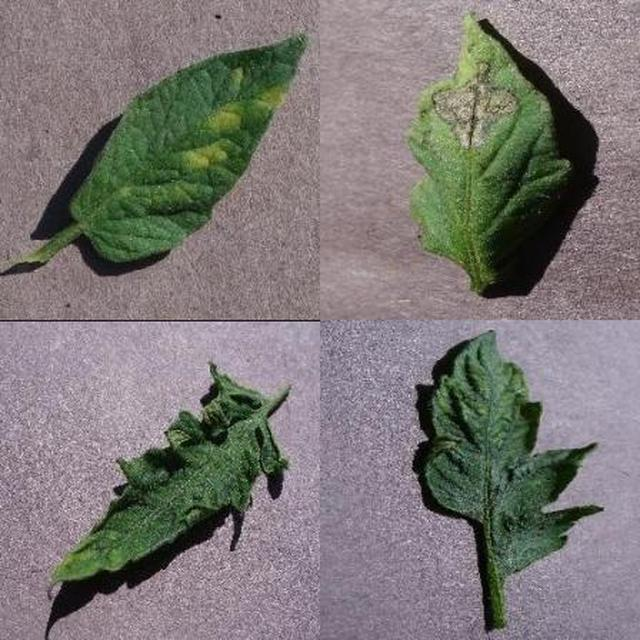Leaf Mold: (234, 212, 640, 640)
